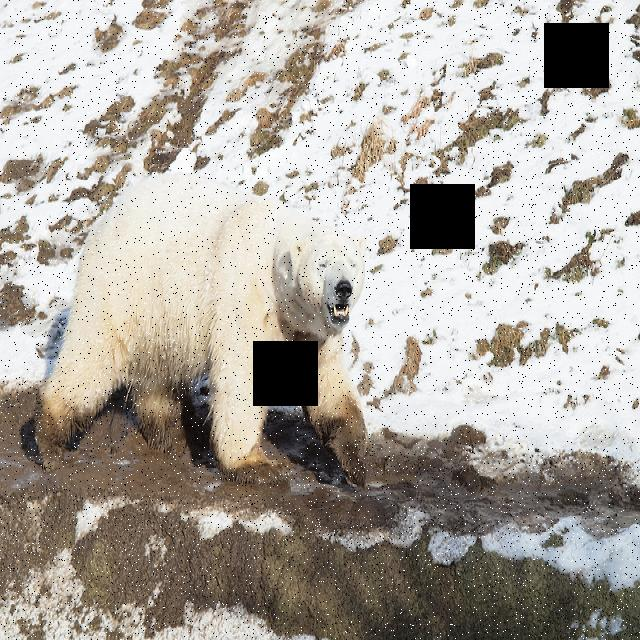Bear: (35, 168, 378, 499)
